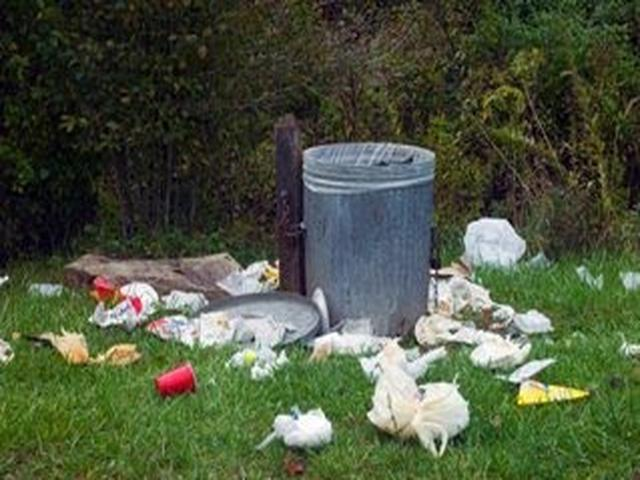garbage: (88, 260, 274, 309)
